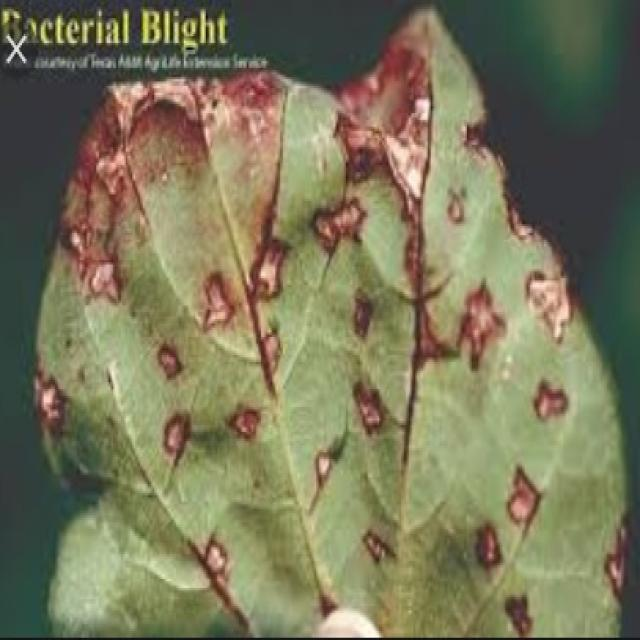Bacterial Blight: (211, 93, 453, 395)
